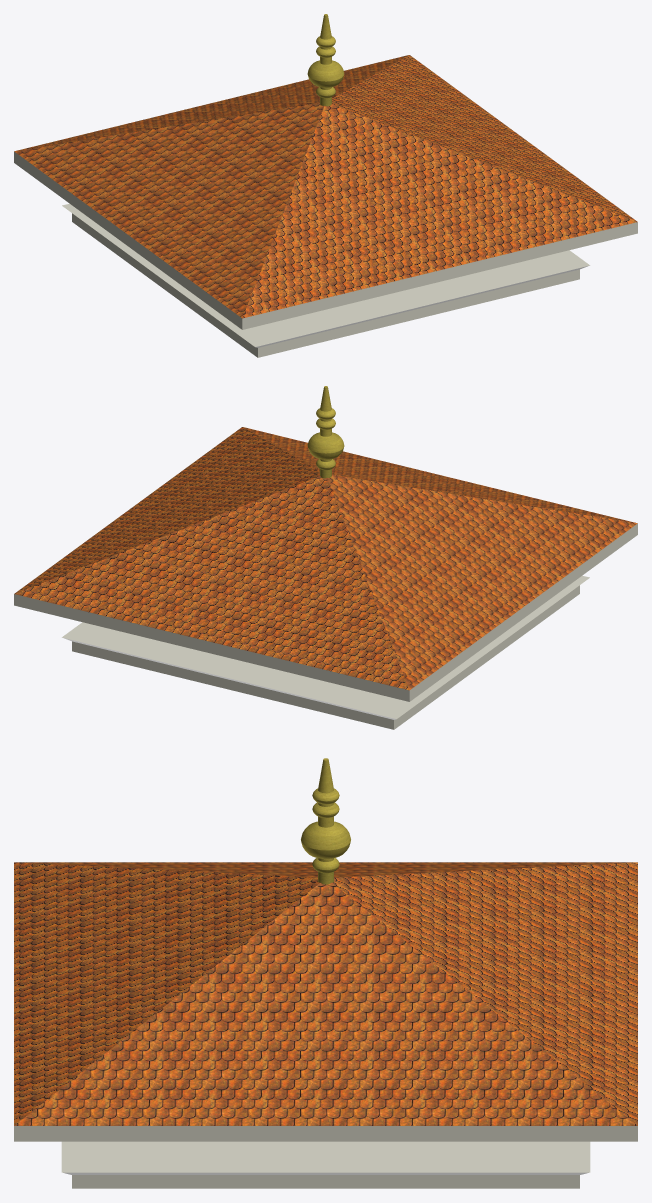
The model's file is chopThapDongHo.glb.
3 renders of one model, top to bottom at view 1: azimuth 30°, elevation 25°; view 2: azimuth 150°, elevation 25°; view 3: azimuth 270°, elevation 25°, orthographic. The views are drawn at different scales.
Parts seen in each view (by area): view 1: _C-Component#20 (Loose Mesh), C-Component#28; view 2: _C-Component#20 (Loose Mesh), C-Component#28; view 3: _C-Component#20 (Loose Mesh), C-Component#28.
Part boxes in pixels (box(x1,y1,x2,y2)): _C-Component#20 (Loose Mesh): box(14, 55, 637, 357); C-Component#28: box(307, 14, 344, 106); _C-Component#20 (Loose Mesh): box(14, 427, 637, 729); C-Component#28: box(307, 386, 344, 478); _C-Component#20 (Loose Mesh): box(14, 862, 637, 1188); C-Component#28: box(301, 758, 350, 884).
Bounding box in the file's own units: 11.86 × 6.75 × 11.86.
Materials: 4 (2 with a texture image).
